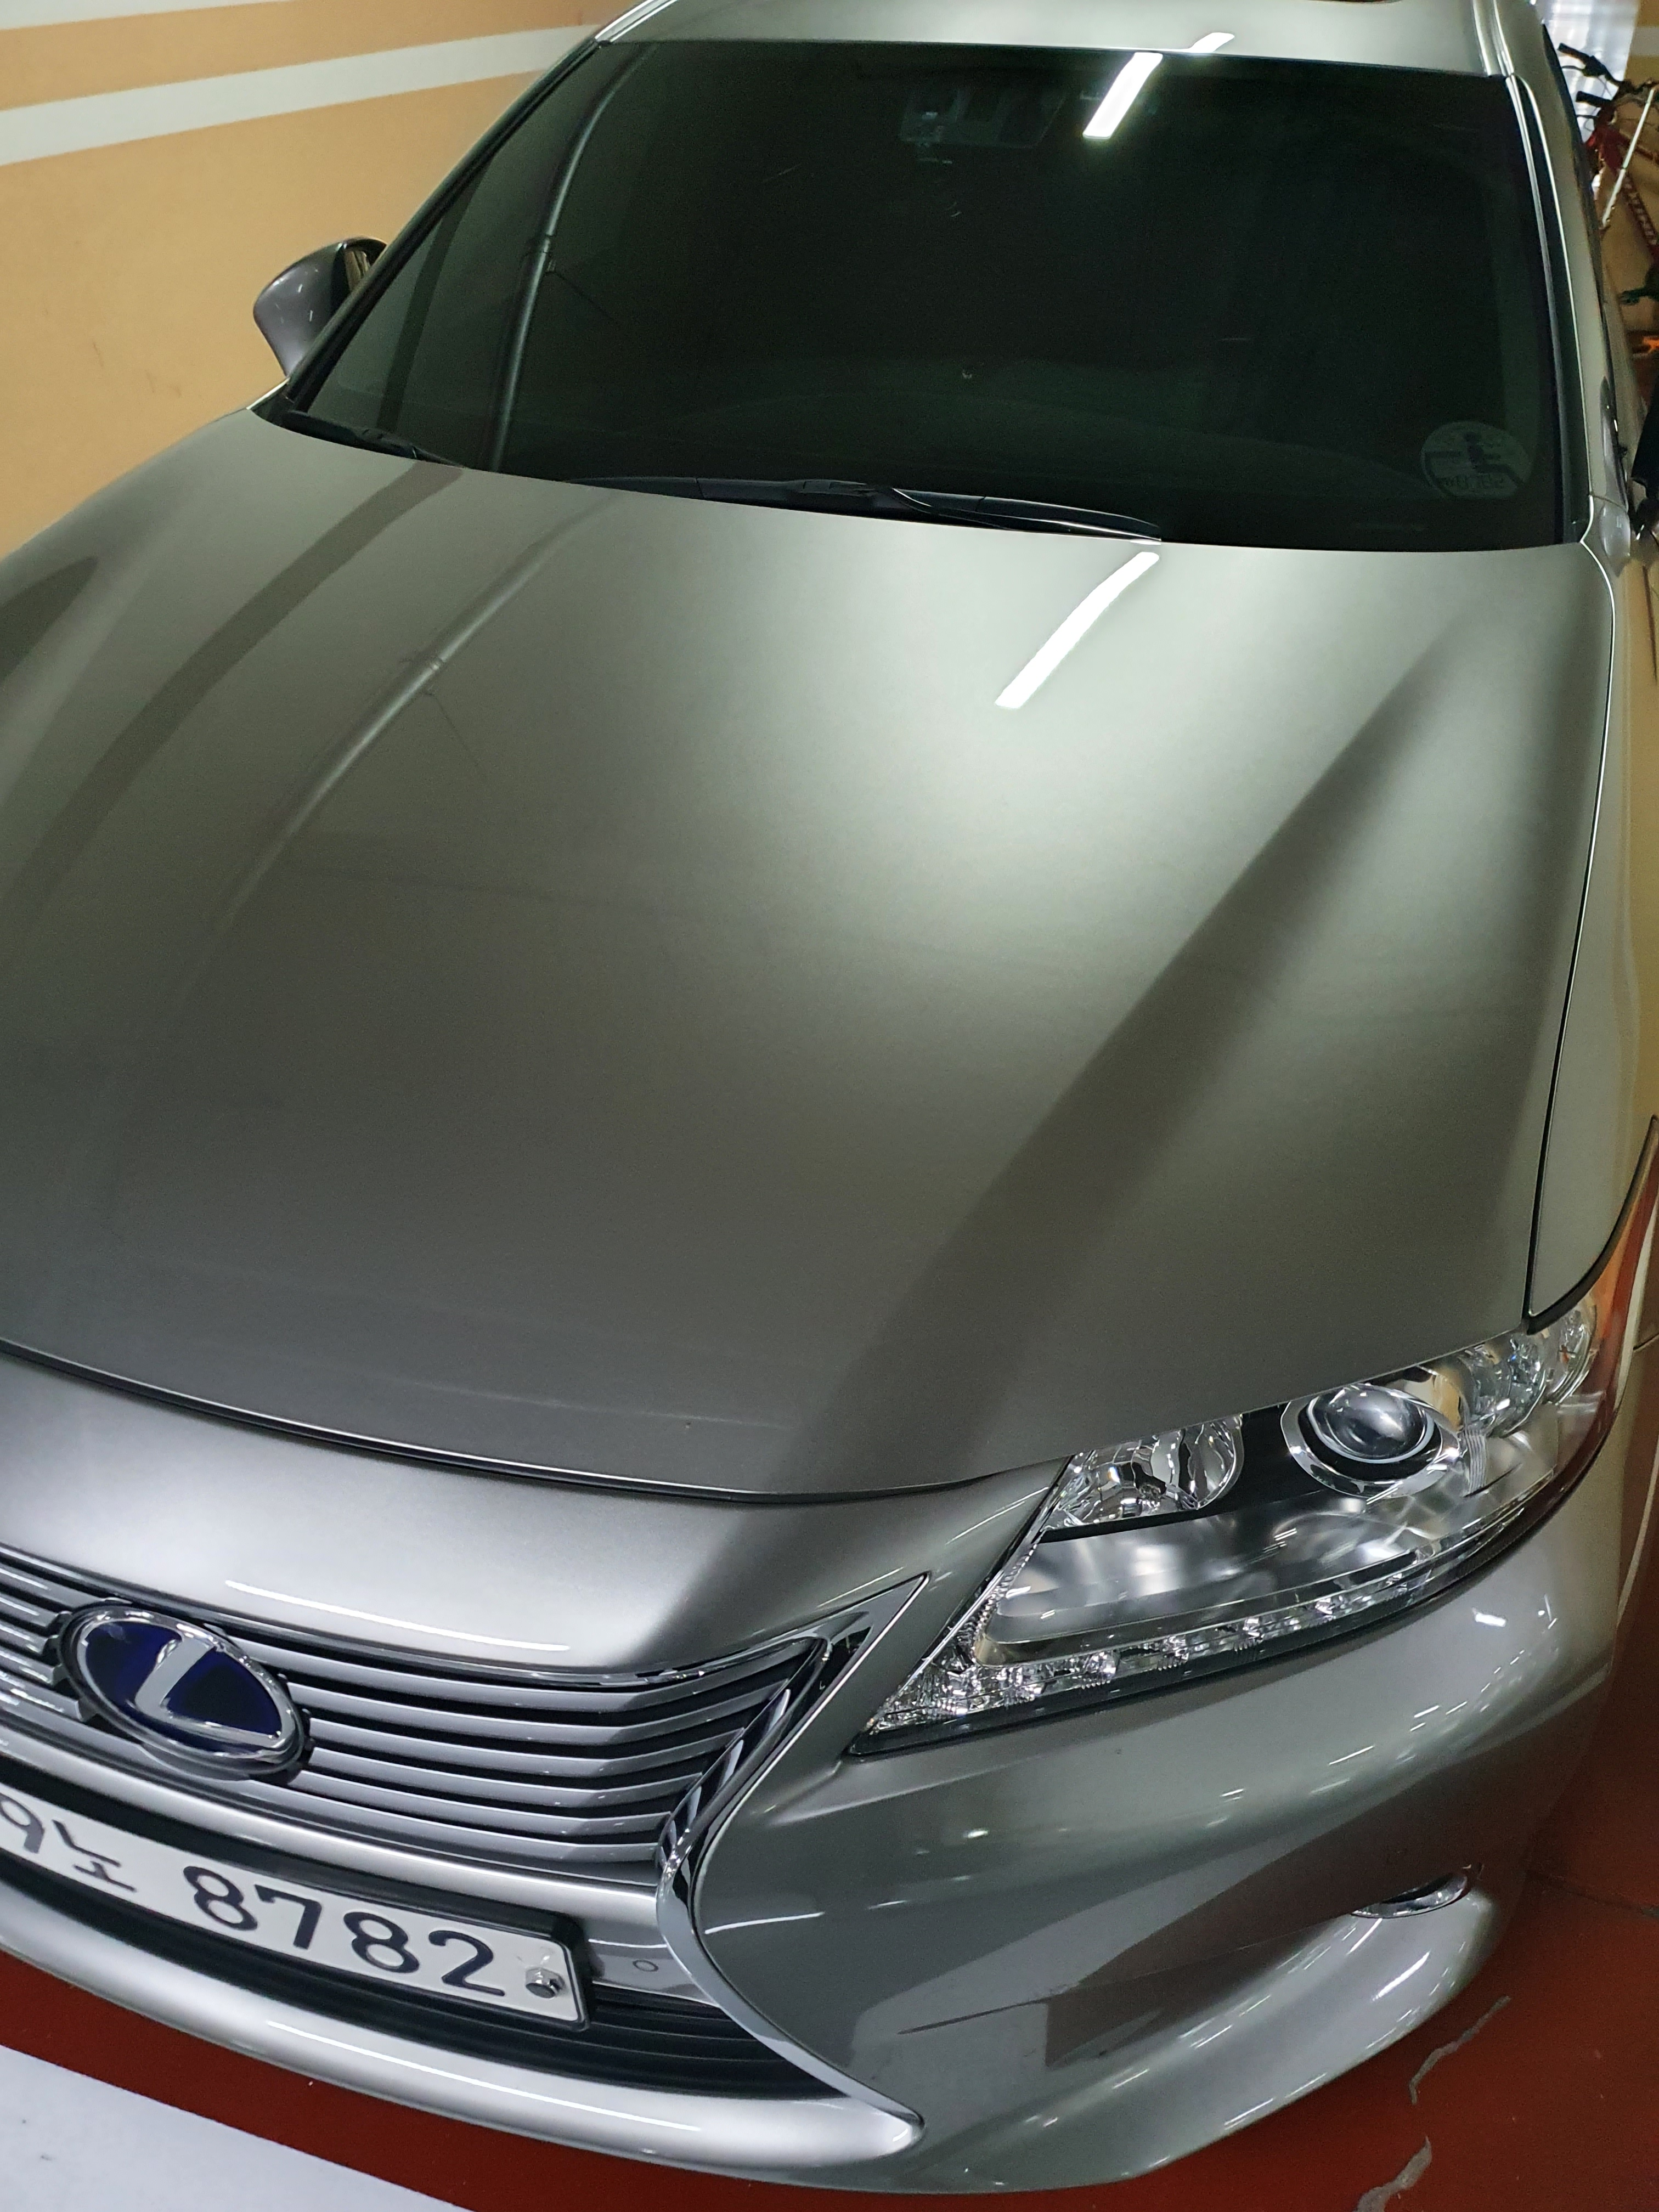disabled_parking: (1422, 415, 1537, 503)
